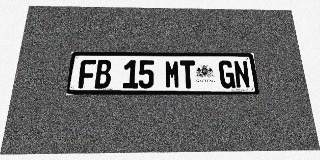1: (123, 60, 139, 88)
5: (139, 60, 154, 88)
B: (94, 60, 112, 88)
F: (78, 60, 96, 88)
G: (218, 60, 236, 88)
M: (165, 60, 180, 88)
N: (233, 60, 251, 88)
T: (180, 60, 196, 88)
